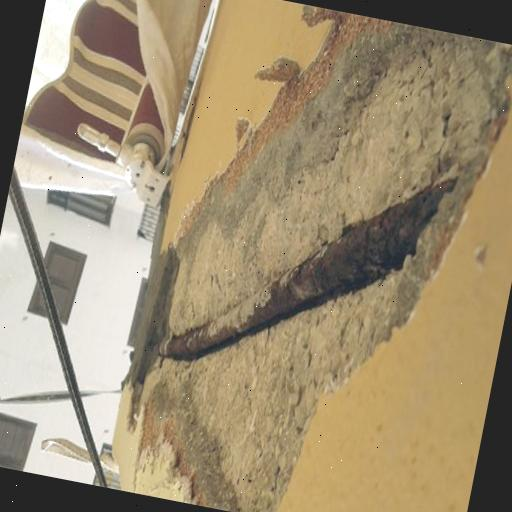spalling: (121, 14, 512, 512)
